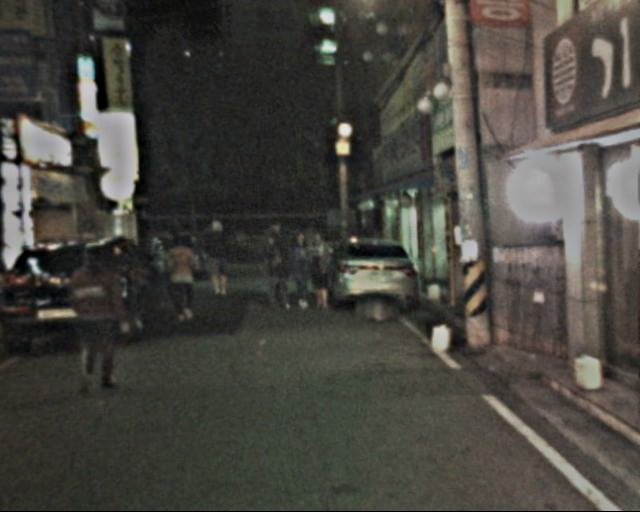person: (69, 239, 130, 384), (160, 234, 201, 319), (197, 216, 234, 298), (302, 232, 339, 310), (256, 235, 293, 309), (283, 232, 318, 308), (255, 219, 291, 292)
